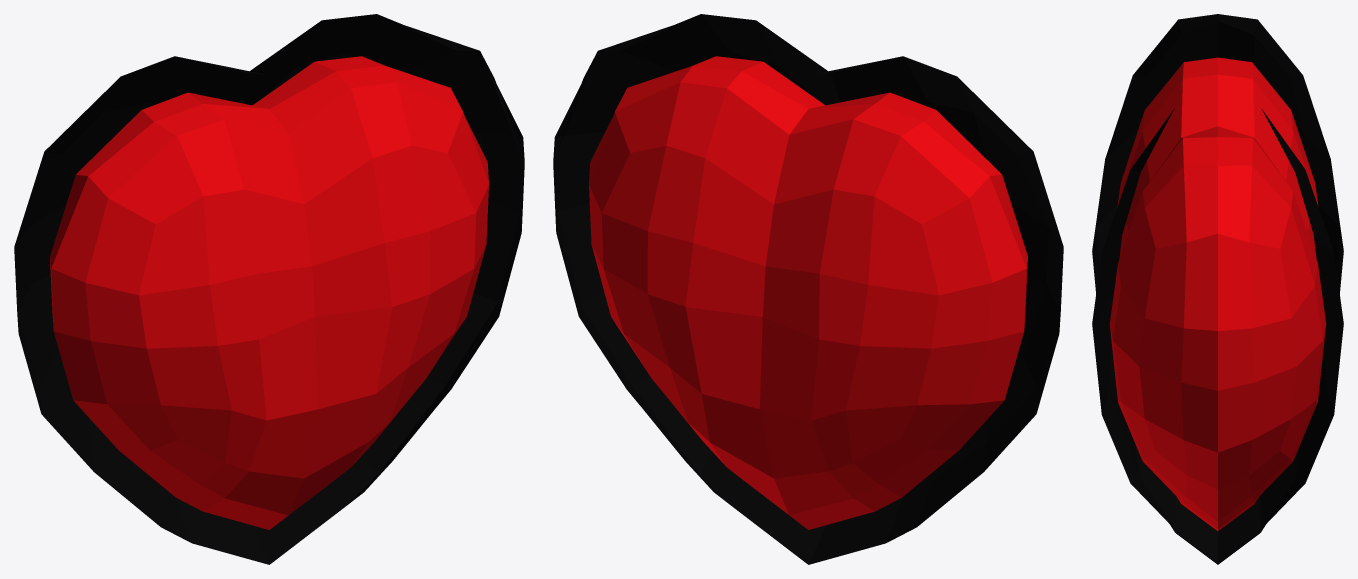
Rendered from heart.fbx.
3 views of the same model, side by side, from view 1: azimuth 30°, elevation 25°; view 2: azimuth 150°, elevation 25°; view 3: azimuth 270°, elevation 25° (orthographic). The views are drawn at different scales.
Parts seen in each view (by area): view 1: Cube, Cube.001; view 2: Cube, Cube.001; view 3: Cube, Cube.001.
Boxes of the visible parts, x1,y1,x2,y2 form: Cube: (50, 56, 488, 529); Cube.001: (14, 14, 524, 564); Cube: (589, 56, 1027, 529); Cube.001: (553, 14, 1063, 564); Cube: (1109, 57, 1326, 530); Cube.001: (1092, 14, 1343, 564).
Bounding box in the file's own units: 178 × 173 × 79.72.
